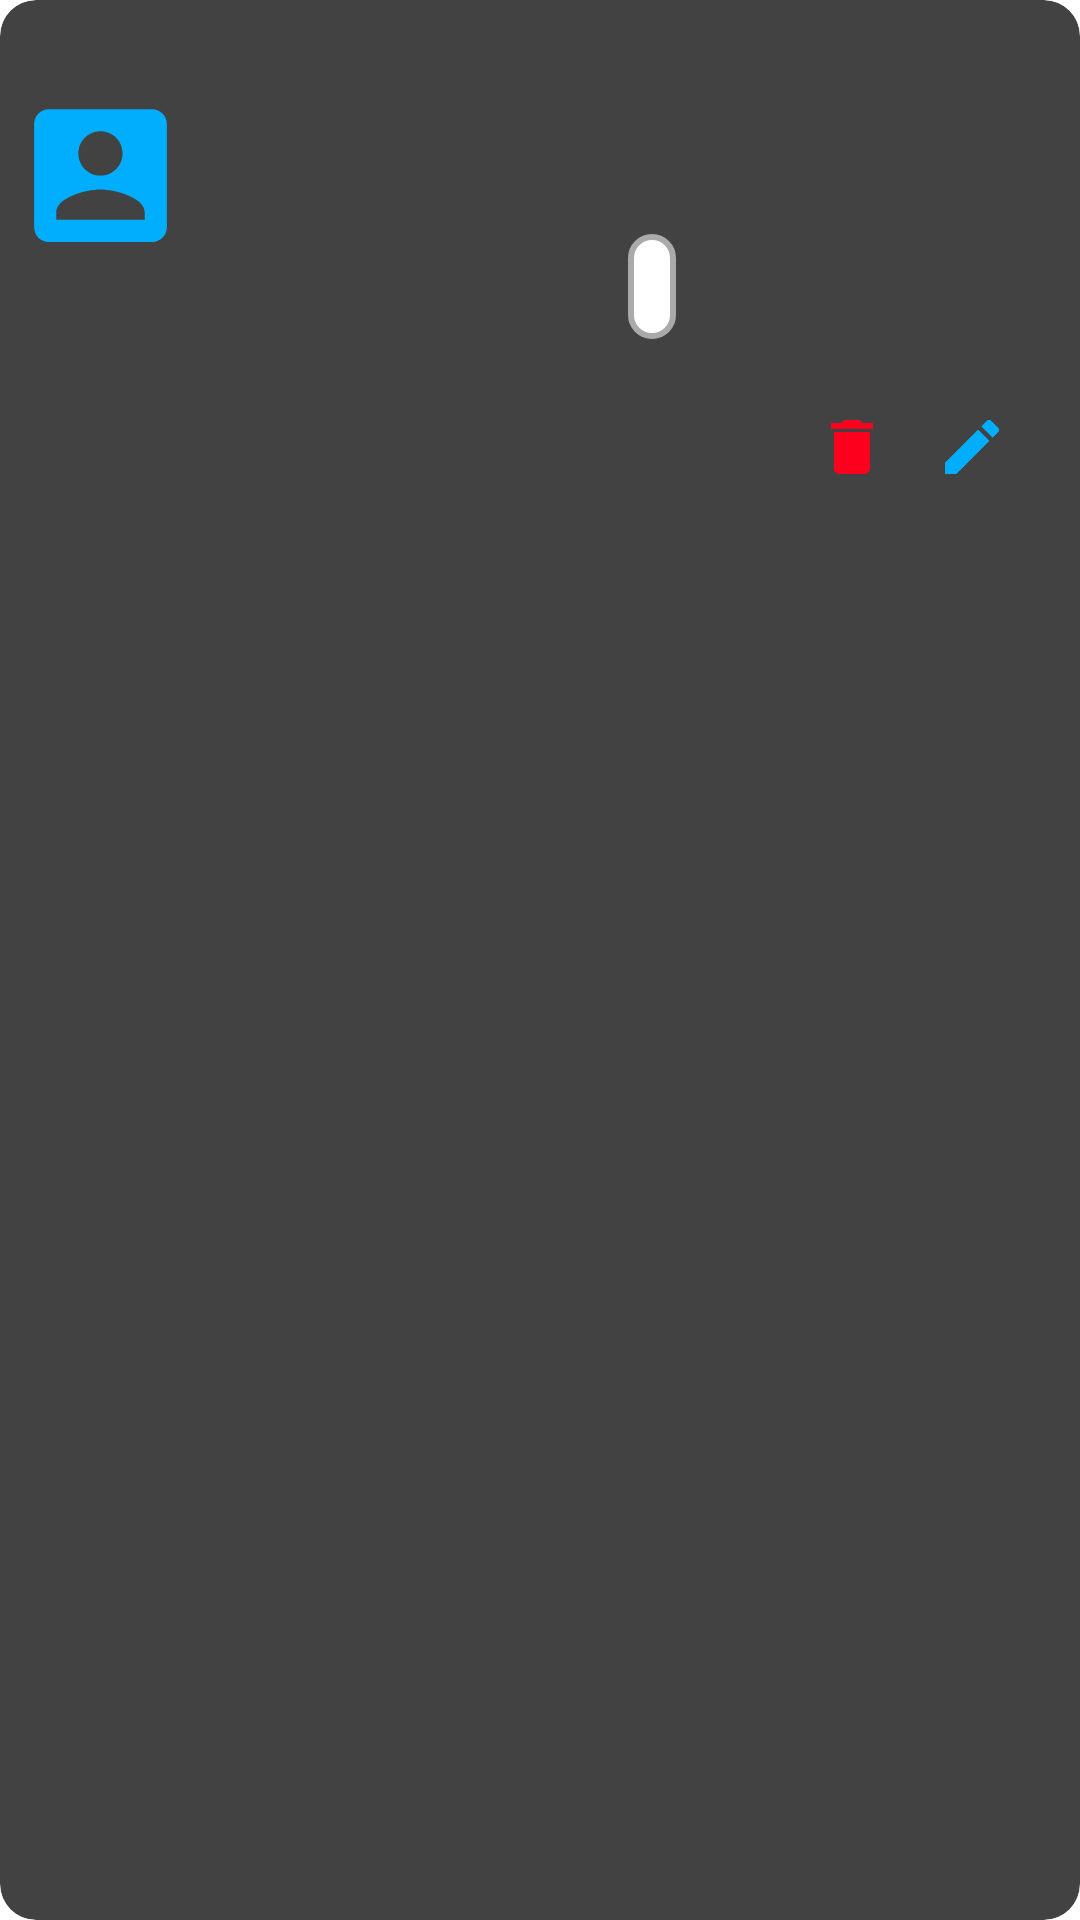

Where icons sit on this 1080px x 1920px app screen, as (x1, y1, x2, y2):
Edit Contact: (945, 420, 999, 474)
